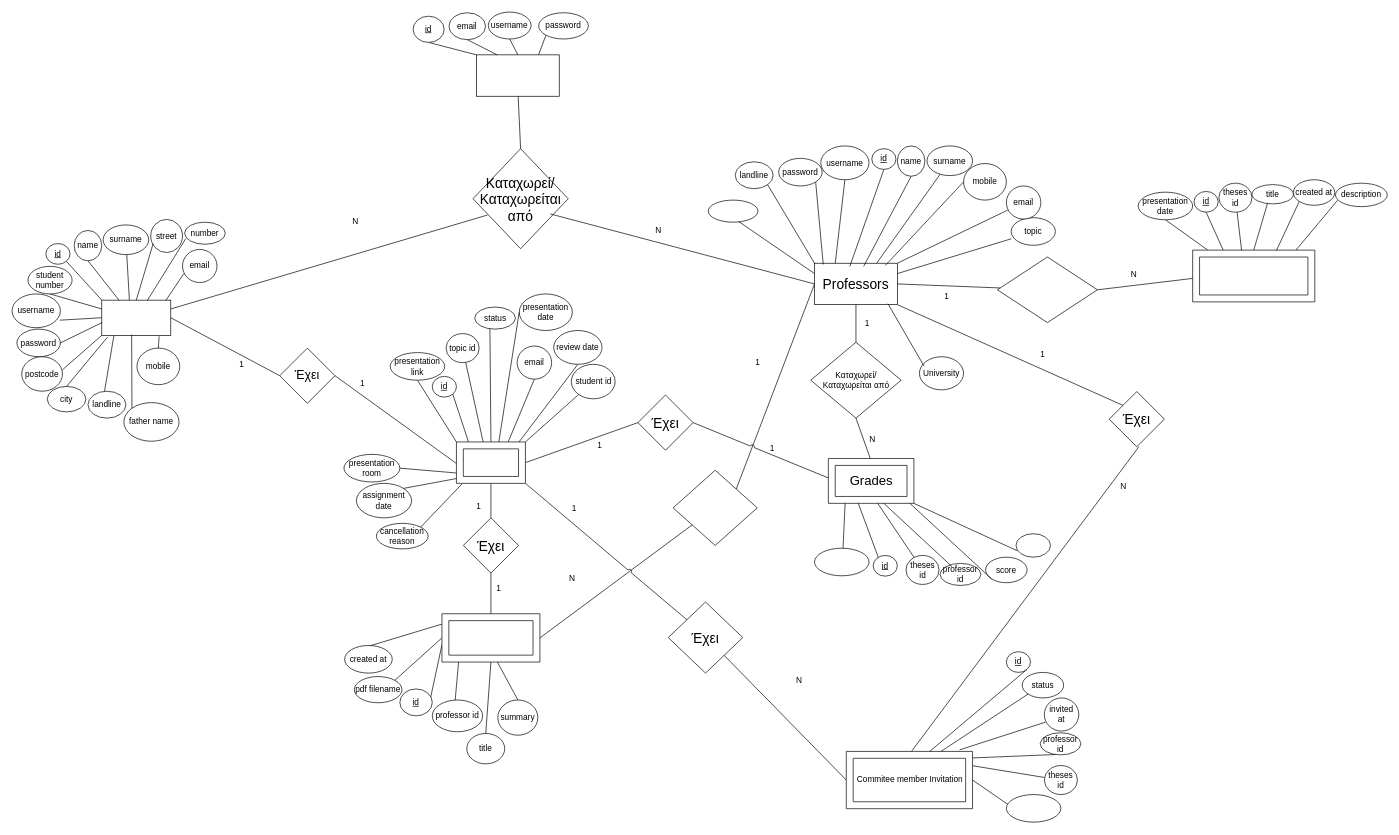
Some shapes in this 1399 by 835 pixel diagram are drawn without their labels. Here are the shapes that lost their labels. From the top down, the centre of each, then its label:
At (x=517, y=75): "Secretariat".
At (x=733, y=210): "department".
At (x=1047, y=289): "Δημιουργεί/ Δημιουργείται από".
At (x=1253, y=275): "Announcements".
At (x=136, y=317): "Students".
At (x=490, y=462): "Theses".
At (x=714, y=507): "Δημιουργεί / Δημιουργείται από".
At (x=841, y=562): "submitted at".
At (x=1033, y=545): "criteria".
At (x=490, y=637): "Theses Topic".
At (x=1033, y=808): "responded at".
